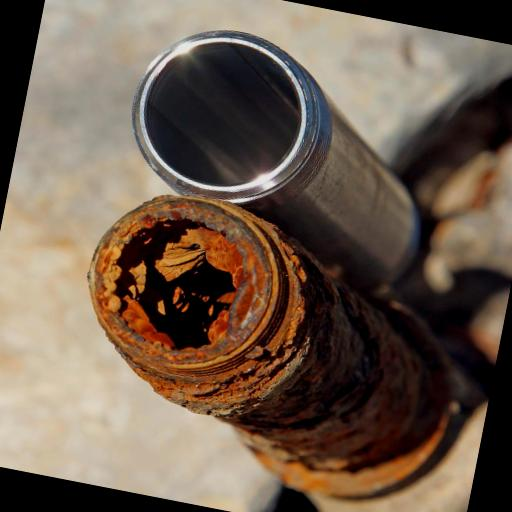segmentation: (88, 196, 463, 499)
